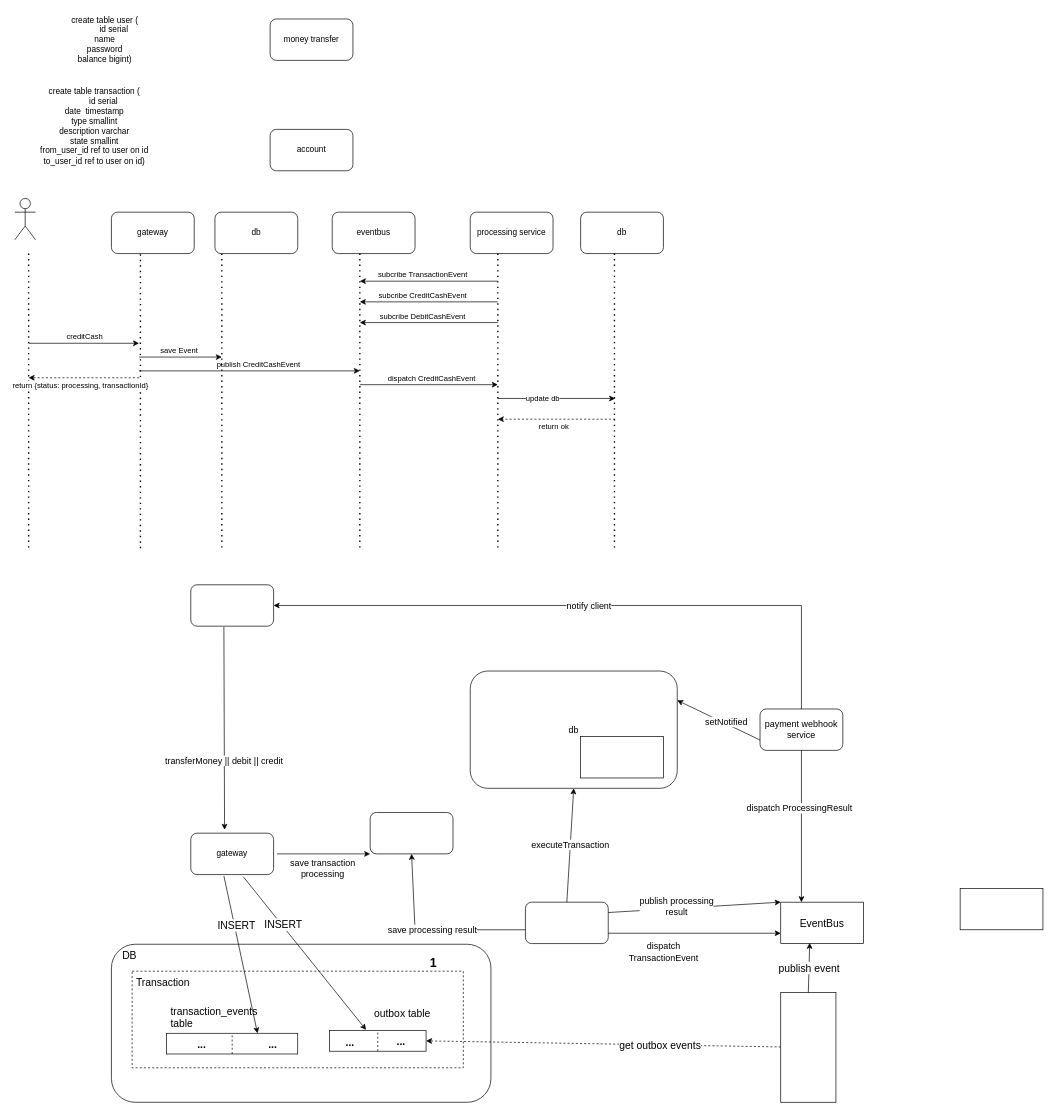
Image size: 1055x1114. Some labels were removed from this diagram. Each missing label, with the centre of its shape:
"client" goes at point (25, 219).
"client service" goes at point (232, 605).
"Message Relay" goes at point (808, 1047).
"redis" goes at point (411, 833).
"transaction processing" goes at point (566, 922).
"transaction table" goes at point (621, 757).
